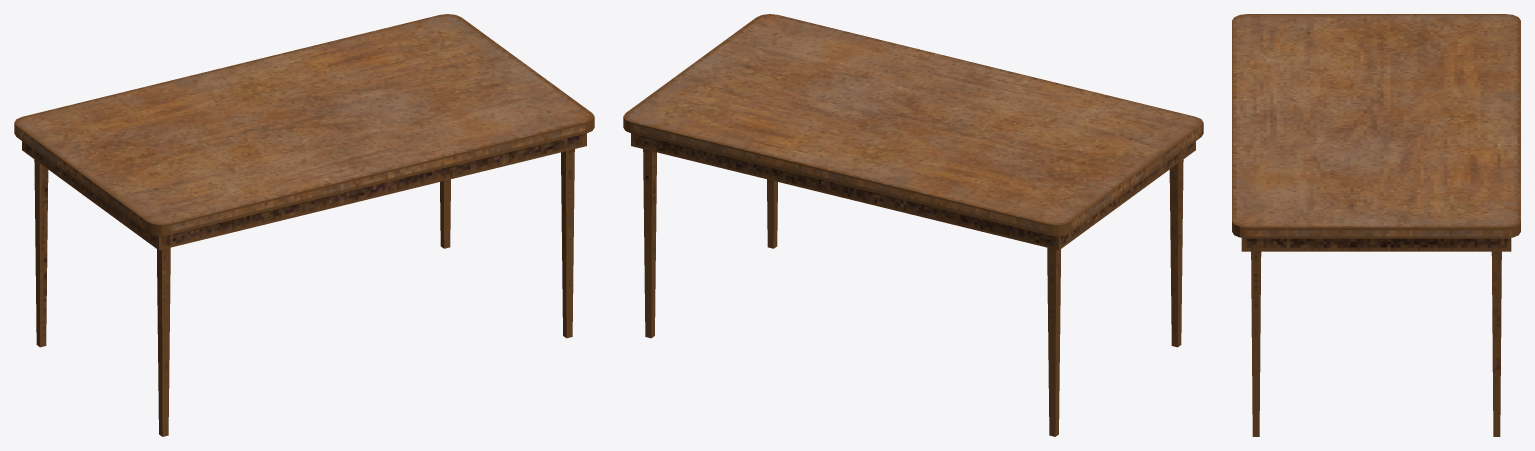
Rendered from Table.fbx.
3 views of the same model, side by side, from view 1: azimuth 30°, elevation 25°; view 2: azimuth 150°, elevation 25°; view 3: azimuth 270°, elevation 25° (orthographic).
Visible parts, largest first — view 1: Table; view 2: Table; view 3: Table.
Part boxes in pixels (x1,y1,x2,y2): Table: (14, 14, 594, 436); Table: (623, 14, 1203, 436); Table: (1232, 14, 1520, 436).
Size of the model in its own units: 72 by 126 by 59.88.
